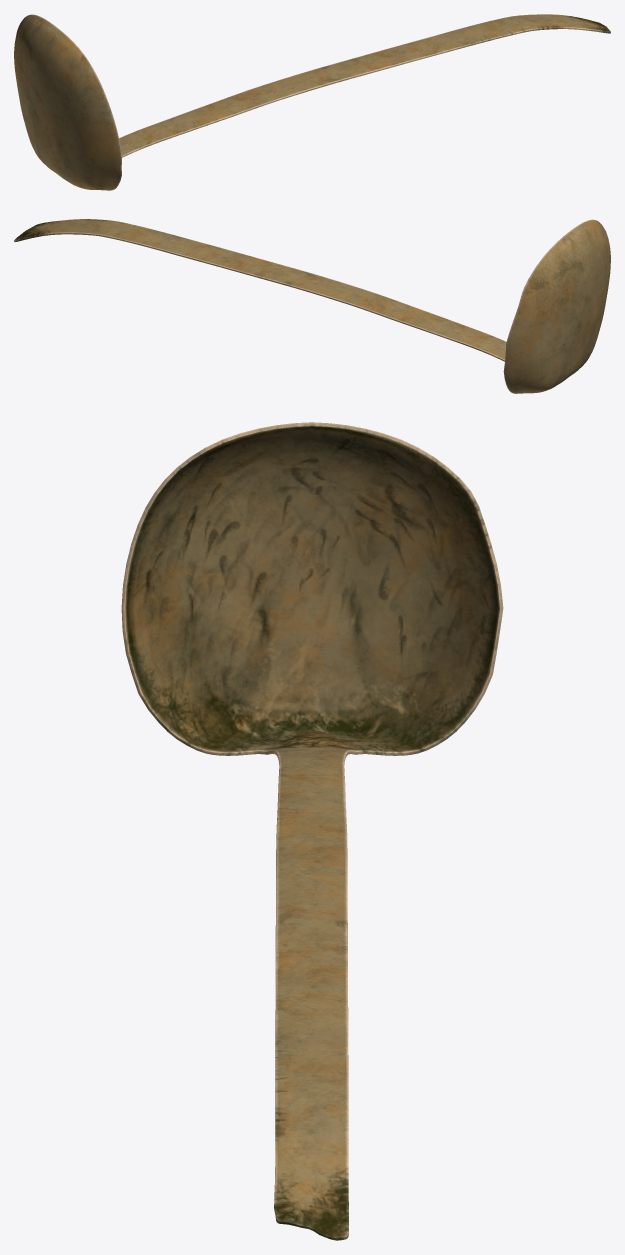
File: SM_Ladle.fbx
3 renders of one model, top to bottom at view 1: azimuth 30°, elevation 25°; view 2: azimuth 150°, elevation 25°; view 3: azimuth 270°, elevation 25°, orthographic. The views are drawn at different scales.
Visible parts, largest first — view 1: SM_Ladle; view 2: SM_Ladle; view 3: SM_Ladle.
Boxes of the visible parts, box(x1,y1,x2,y2) form: SM_Ladle: box(14, 14, 610, 190); SM_Ladle: box(14, 219, 610, 393); SM_Ladle: box(121, 422, 503, 1240).
Size of the model in its own units: 66.33 by 17.07 by 19.33.
Materials: 1 (1 with a texture image).
